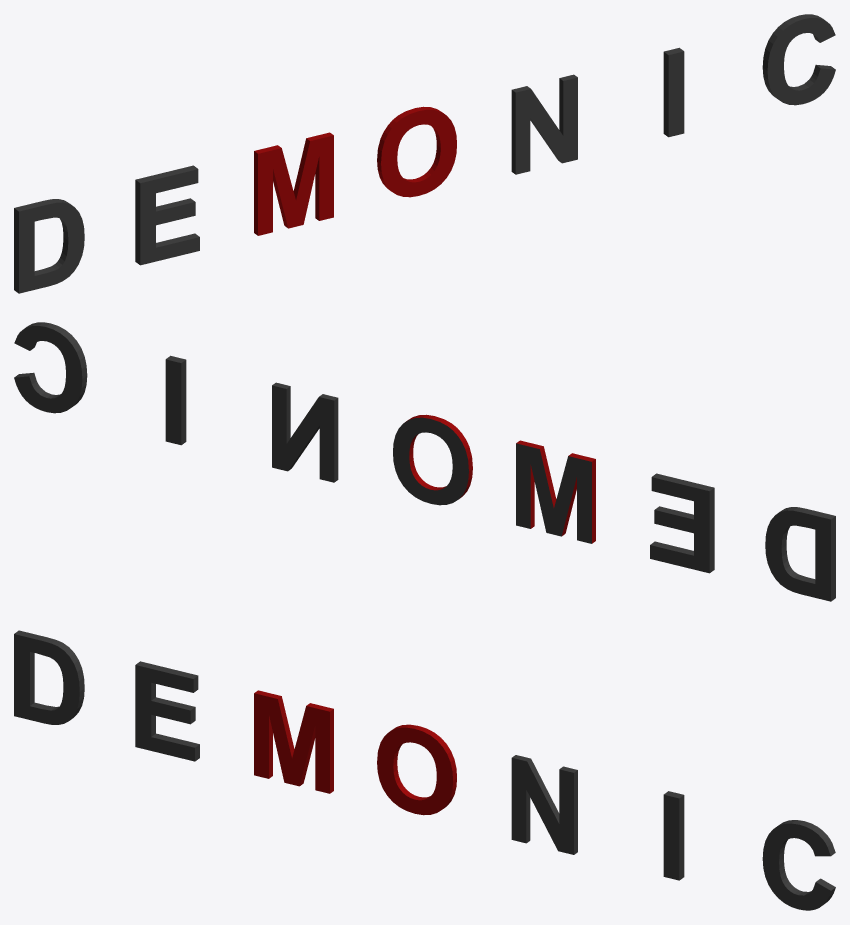
File: demonic.fbx
3 renders of one model, top to bottom at view 1: azimuth 30°, elevation 25°; view 2: azimuth 150°, elevation 25°; view 3: azimuth 330°, elevation 25°, orthographic.
Visible parts, largest first — view 1: M, D, N, E, O, C, I; view 2: M, D, N, E, O, C, I; view 3: M, N, D, E, O, C, I.
Part boxes in pixels (x1=…): M: x1=254, y1=132, x2=333, y2=235; D: x1=14, y1=199, x2=84, y2=293; N: x1=511, y1=74, x2=577, y2=174; E: x1=135, y1=165, x2=199, y2=265; O: x1=377, y1=106, x2=456, y2=197; C: x1=762, y1=14, x2=835, y2=105; I: x1=663, y1=47, x2=684, y2=137; M: x1=516, y1=440, x2=595, y2=543; D: x1=765, y1=507, x2=835, y2=601; N: x1=272, y1=382, x2=338, y2=482; E: x1=650, y1=473, x2=714, y2=573; O: x1=393, y1=414, x2=472, y2=505; C: x1=14, y1=322, x2=87, y2=413; I: x1=165, y1=355, x2=186, y2=445; M: x1=254, y1=690, x2=333, y2=793; N: x1=511, y1=755, x2=577, y2=854; D: x1=14, y1=630, x2=84, y2=724; E: x1=135, y1=661, x2=199, y2=761; O: x1=377, y1=724, x2=456, y2=815; C: x1=762, y1=820, x2=835, y2=910; I: x1=663, y1=791, x2=684, y2=880.
Size of the model in its own units: 64.25 by 6.57 by 0.6712.
